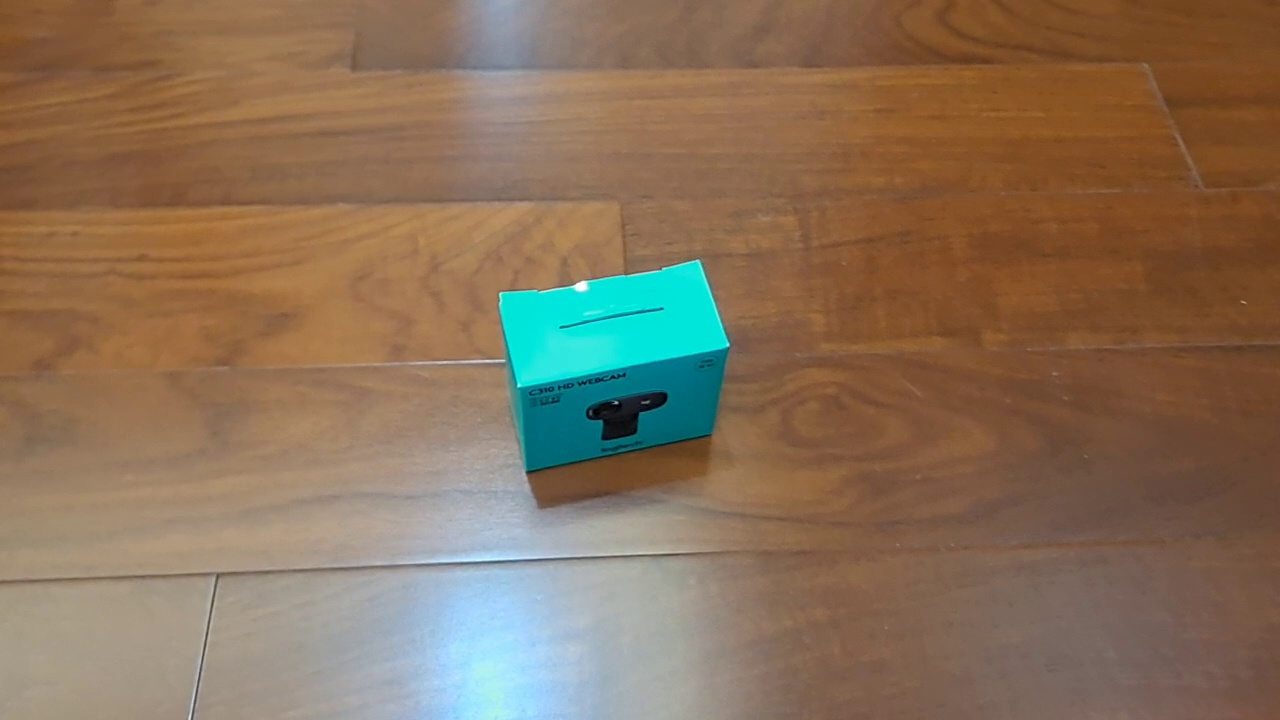webcam: (497, 258, 731, 474)
